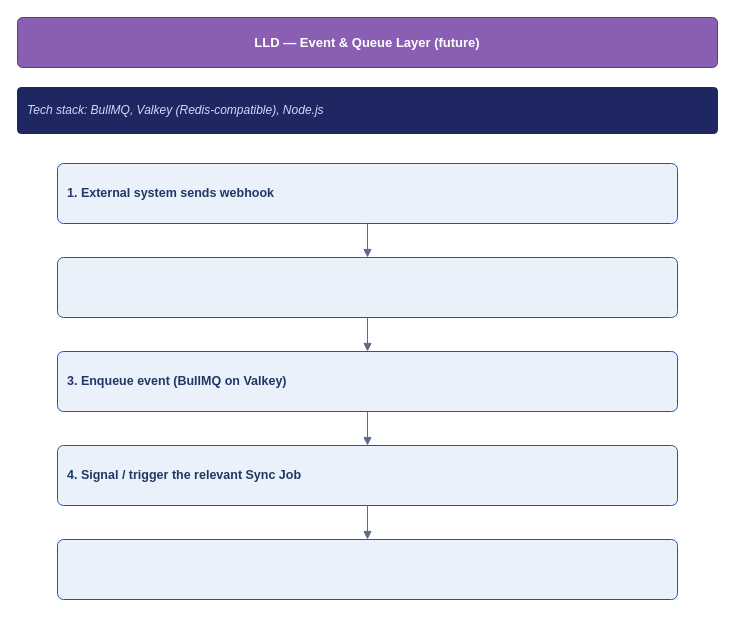
Some shapes in this 735 by 617 pixel diagram are drawn without their labels. Here are the shapes that lost their labels. From the top down, the centre of each, then its label:
the point at 367,287: 2. Verify signature (HMAC)
the point at 367,569: 5. On failure, route record to dead-letter queue
